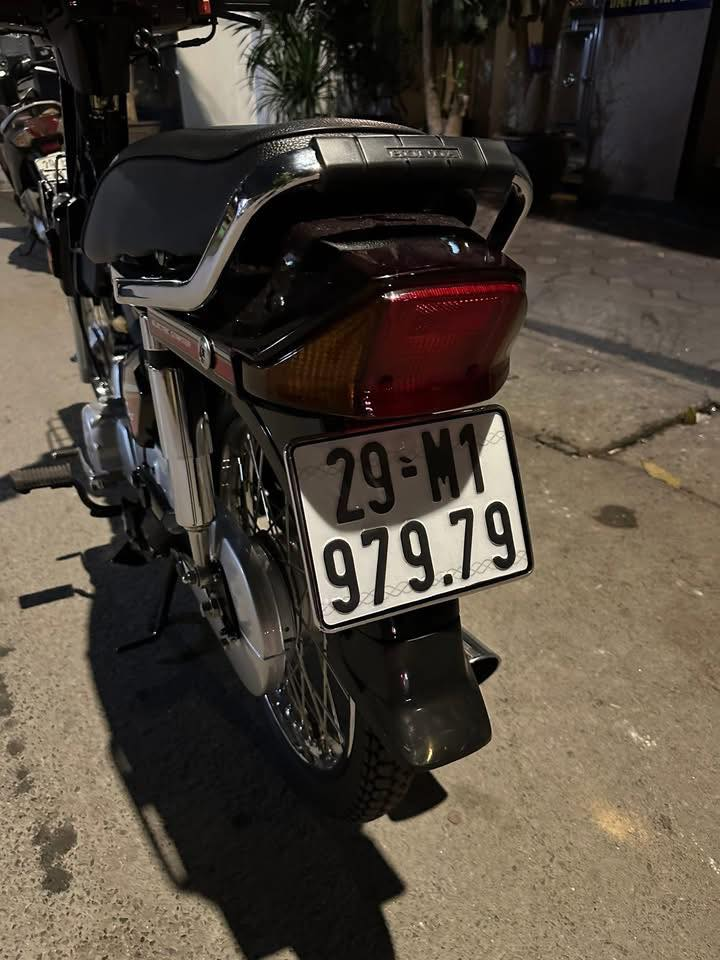bien_so: (277, 398, 541, 642)
